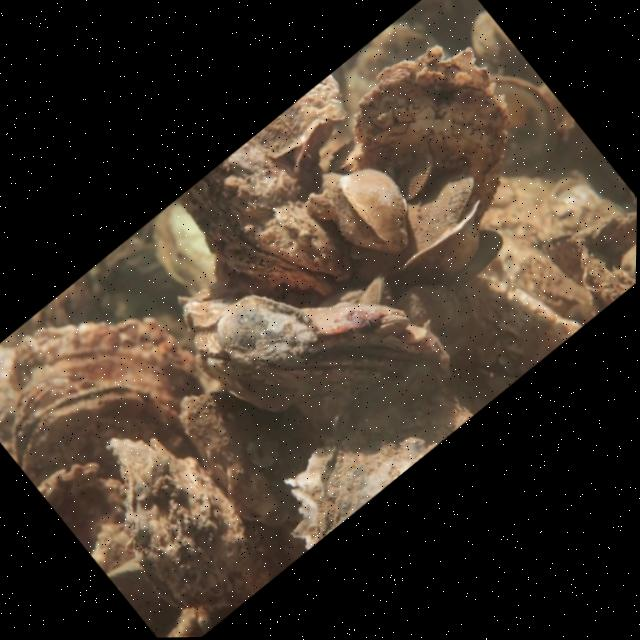Oyster-Closed: (191, 297, 453, 411), (354, 45, 511, 230), (180, 139, 350, 296), (104, 437, 254, 611), (16, 378, 212, 491), (321, 164, 410, 251), (391, 280, 463, 336), (356, 270, 395, 305), (372, 311, 412, 334)
Oyster-Indeterminate: (284, 394, 475, 549), (6, 317, 211, 447), (179, 389, 323, 530), (37, 463, 134, 581), (249, 73, 351, 161), (214, 292, 325, 366), (439, 226, 506, 290), (397, 158, 434, 203)
Oyster-Open: (390, 173, 483, 273)
